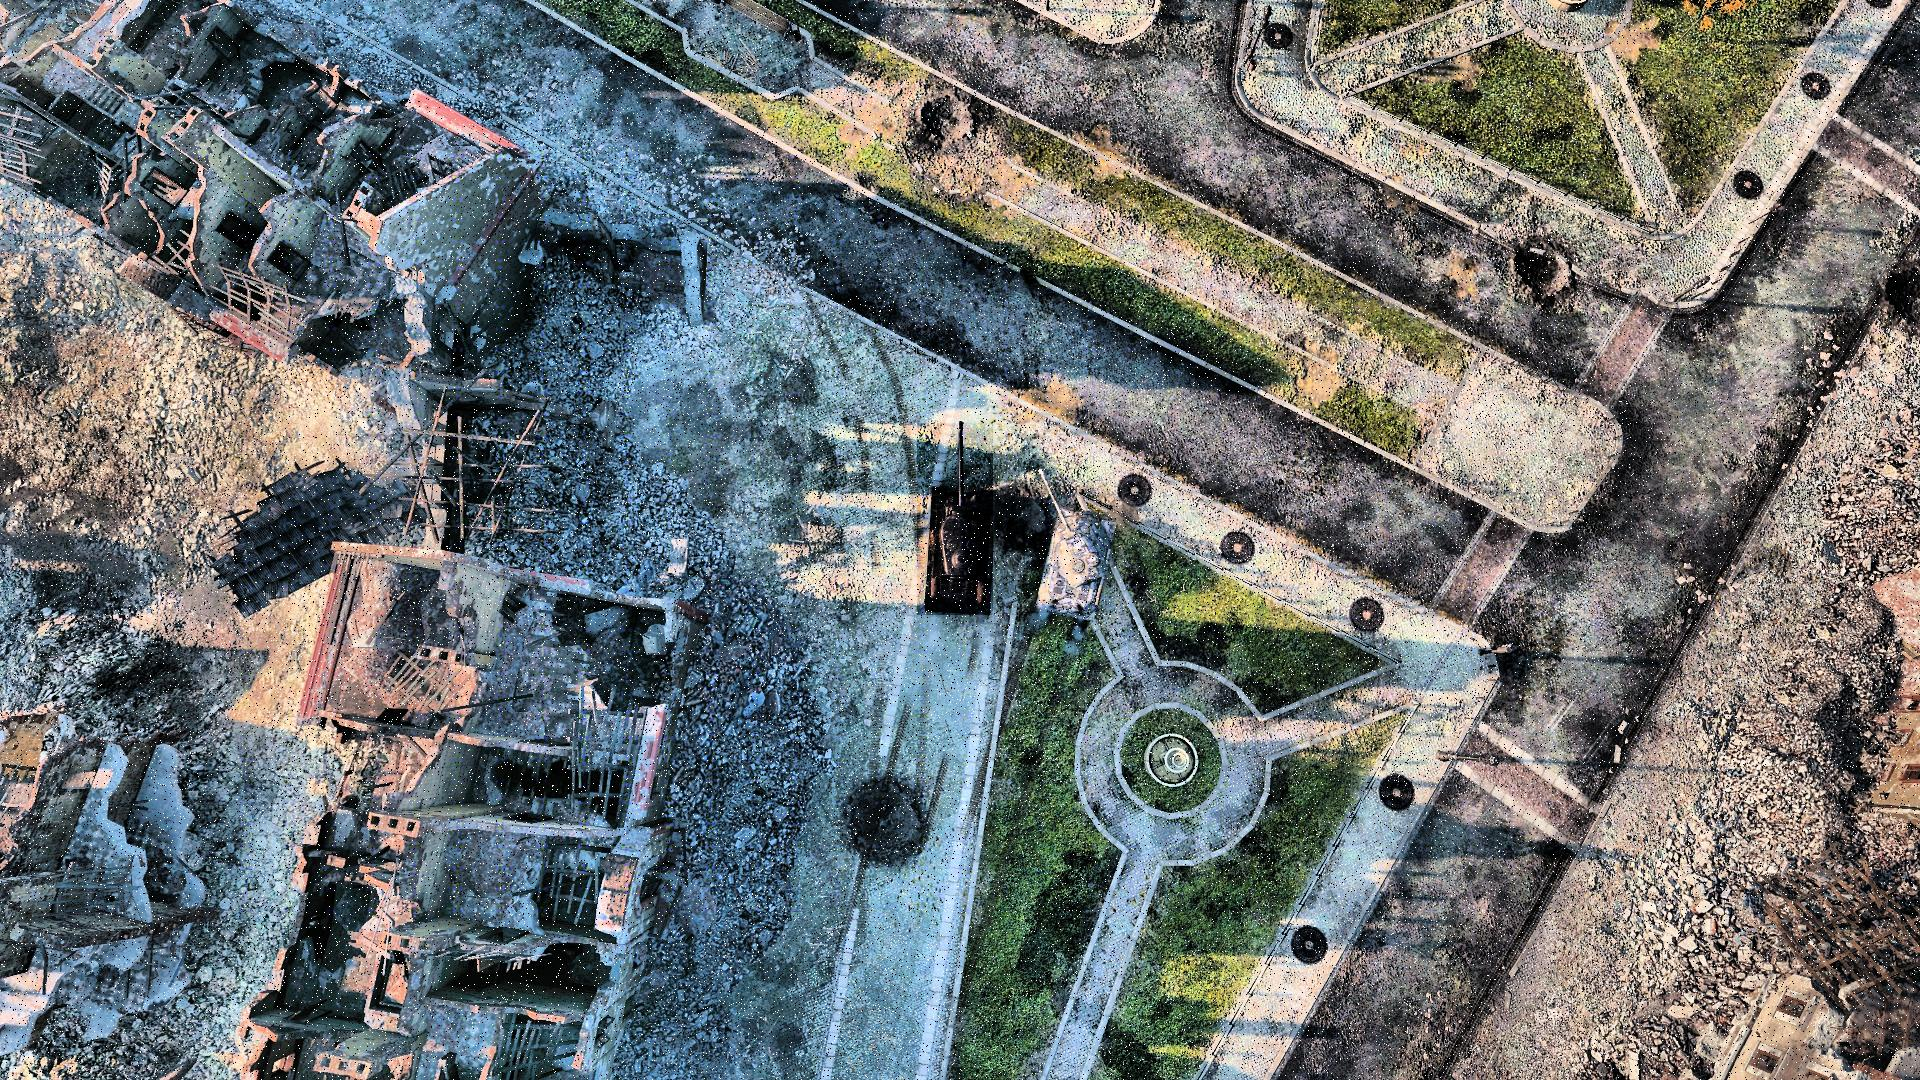military-vehicle: (916, 423, 993, 615), (1023, 467, 1116, 613)
